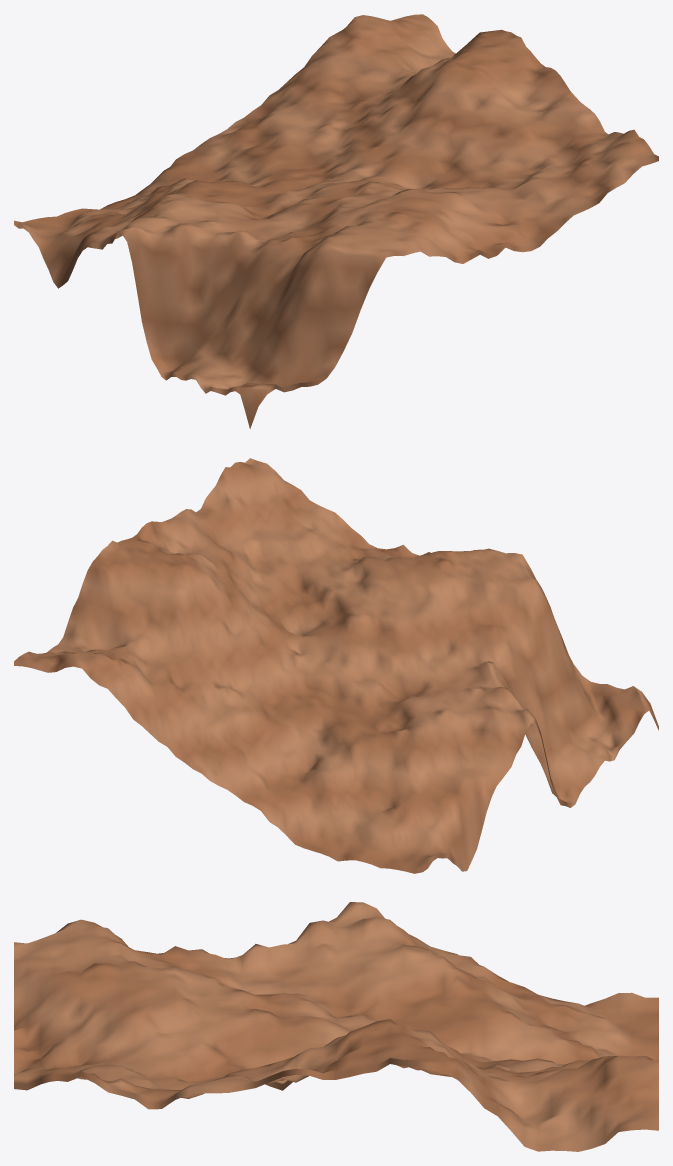
Rendered from terrain-048.glb.
3 renders of one model, top to bottom at view 1: azimuth 30°, elevation 25°; view 2: azimuth 150°, elevation 25°; view 3: azimuth 270°, elevation 25°, orthographic. The views are drawn at different scales.
Visible parts, largest first — view 1: terrain-048; view 2: terrain-048; view 3: terrain-048.
Boxes of the visible parts, <box> form: terrain-048: <box>14,14,658,428</box>; terrain-048: <box>14,458,658,873</box>; terrain-048: <box>14,902,658,1151</box>.
Size of the model in its own units: 384 by 183 by 384.
